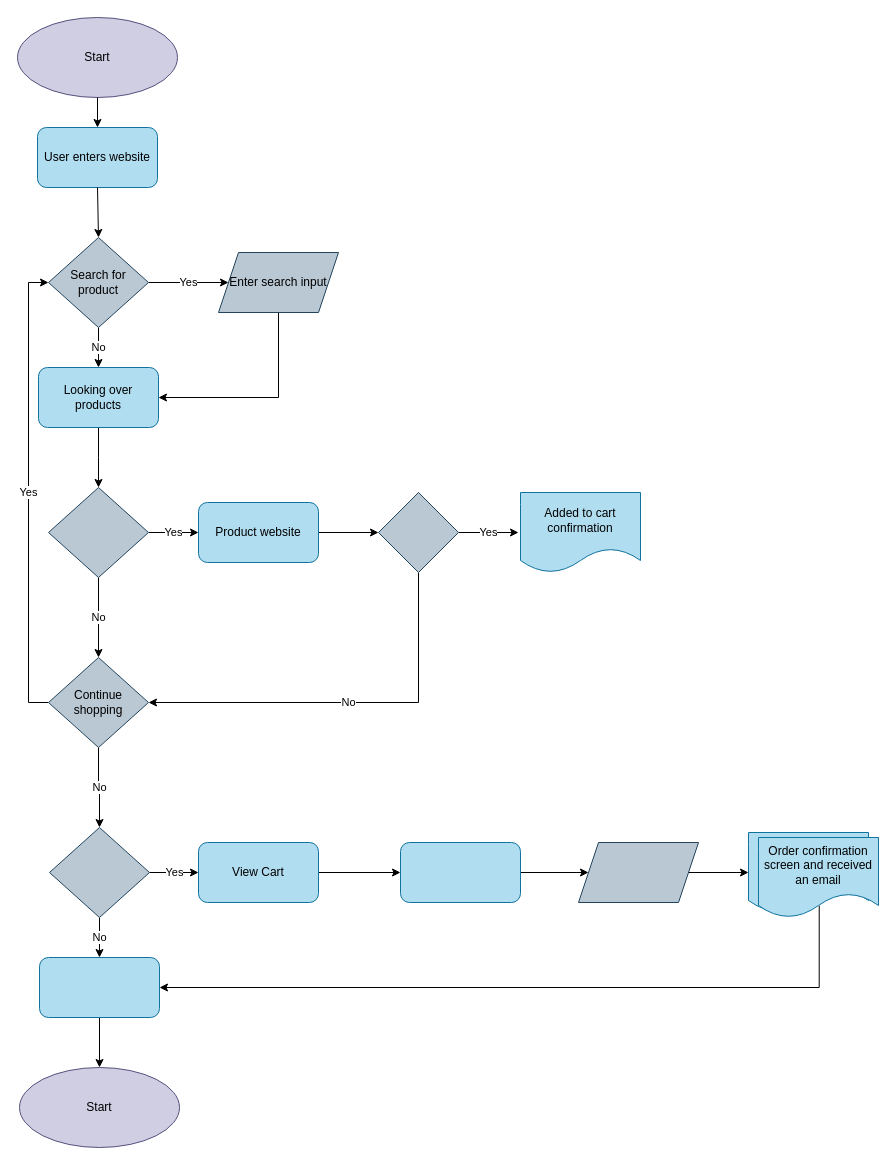
The diagram is 896 pixels wide and 1165 high, and some of its shapes have lost their labels. Here are the shapes that lost their labels. From the top down, the box of each, then its label:
(48, 486, 148, 578): View specific product
(378, 492, 458, 572): Add to cart
(48, 826, 150, 918): Checkout
(400, 842, 520, 902): View Payment
(578, 842, 698, 902): Enter payment information
(38, 956, 160, 1018): Customer leaves the website
